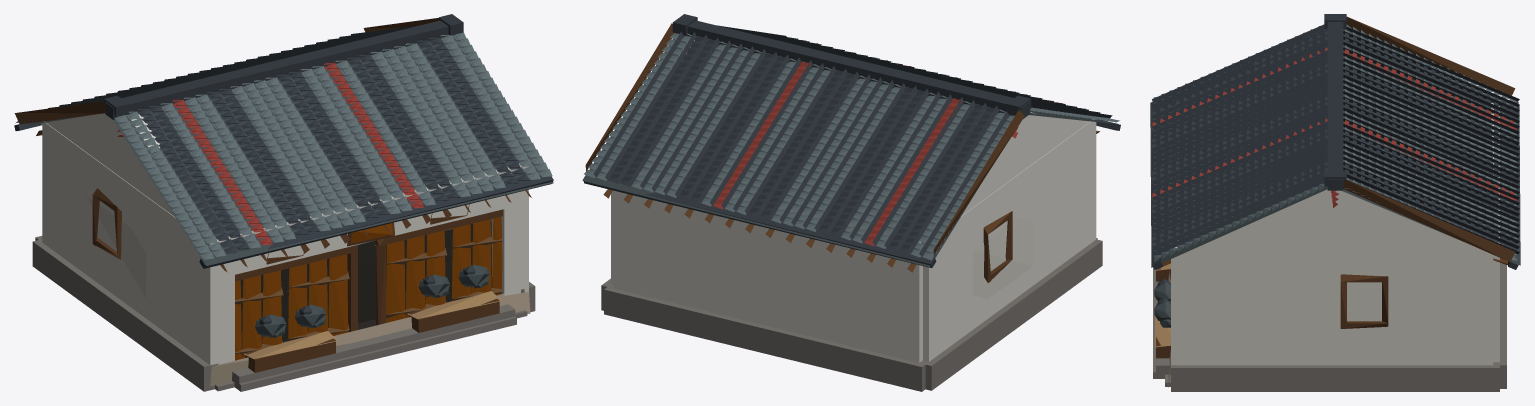
Rendered from lib_lib_house_b1.vc.glb.
3 renders of one model, left to right at view 1: azimuth 30°, elevation 25°; view 2: azimuth 150°, elevation 25°; view 3: azimuth 270°, elevation 25°, orthographic. The views are drawn at different scales.
Parts seen in each view (by area): view 1: lib_lib_house_b1; view 2: lib_lib_house_b1; view 3: lib_lib_house_b1.
Boxes of the visible parts, x1=… form: lib_lib_house_b1: x1=14, y1=14, x2=553, y2=391; lib_lib_house_b1: x1=582, y1=14, x2=1120, y2=391; lib_lib_house_b1: x1=1150, y1=14, x2=1520, y2=391.
Size of the model in its own units: 7.38 by 4.58 by 7.02.
